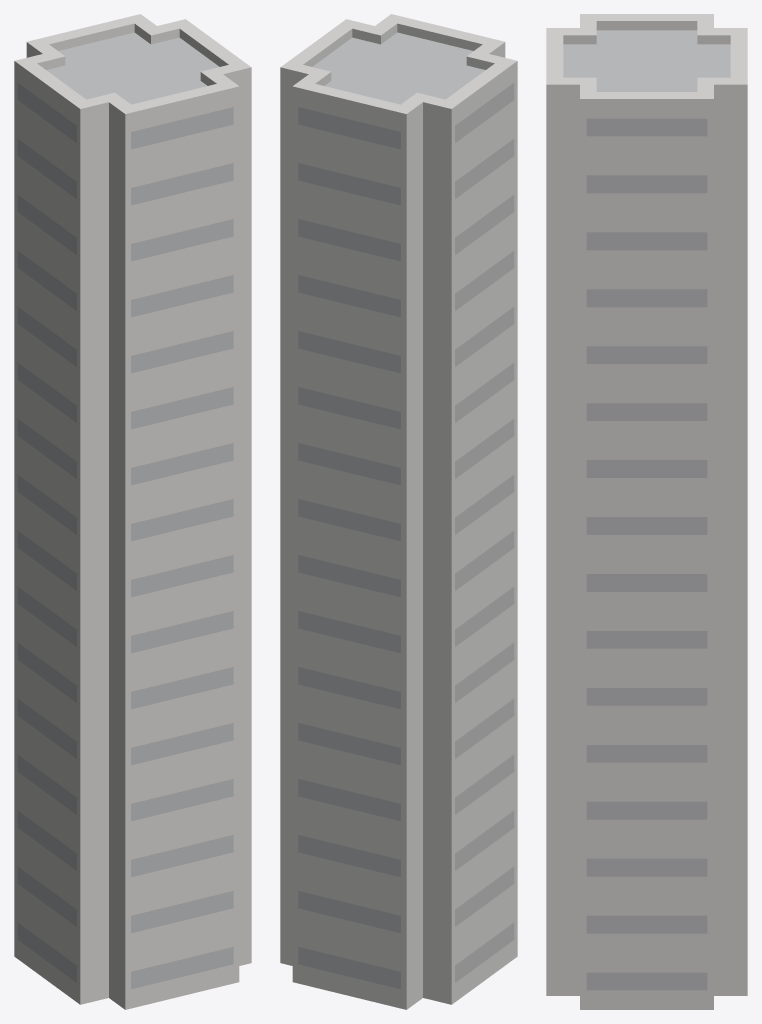
The model's file is building_1.fbx.
The picture shows the model from 3 angles, left to right: view 1: azimuth 30°, elevation 25°; view 2: azimuth 150°, elevation 25°; view 3: azimuth 270°, elevation 25°; orthographic projection.
Visible parts, largest first — view 1: building_1; view 2: building_1; view 3: building_1.
Boxes of the visible parts, x1,y1,x2,y2 form: building_1: [14, 14, 251, 1009]; building_1: [280, 14, 517, 1009]; building_1: [546, 14, 747, 1009].
Size of the model in its own units: 600 by 3000 by 600.
1 material, 1 textured.
